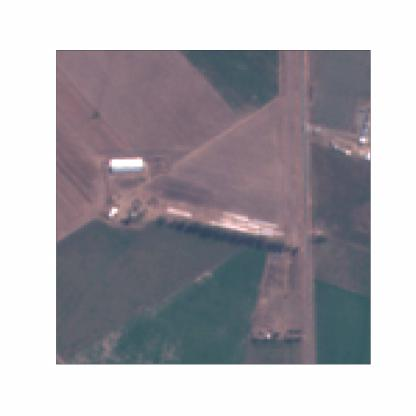silobolsa: (208, 222, 276, 238), (222, 211, 282, 229), (218, 219, 280, 234), (164, 204, 193, 219)
